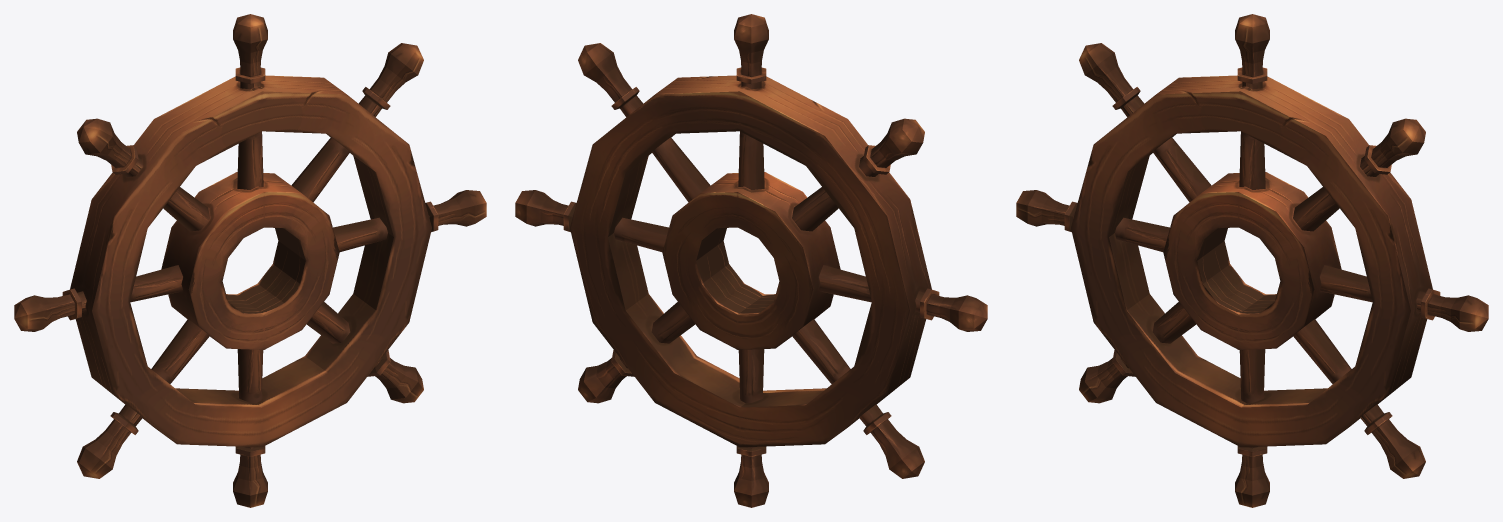
Rendered from 41_rudder.FBX.
3 views of the same model, side by side, from view 1: azimuth 30°, elevation 25°; view 2: azimuth 150°, elevation 25°; view 3: azimuth 330°, elevation 25° (orthographic).
Parts seen in each view (by area): view 1: 41_rudder; view 2: 41_rudder; view 3: 41_rudder.
Part boxes in pixels (bbox=[...]): 41_rudder: bbox=[14, 14, 486, 507]; 41_rudder: bbox=[515, 14, 987, 507]; 41_rudder: bbox=[1016, 14, 1488, 507].
Size of the model in its own units: 61.02 by 61.02 by 6.14.
